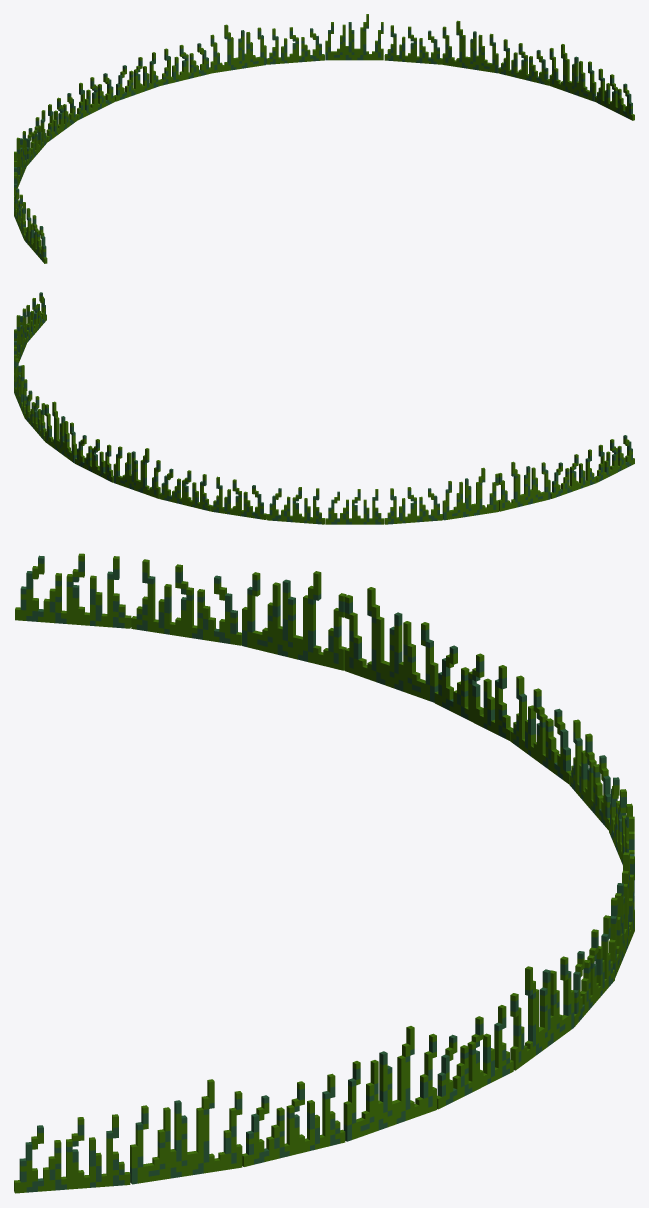
File: Grass_Layer1.fbx
The picture shows the model from 3 angles, top to bottom: view 1: azimuth 30°, elevation 25°; view 2: azimuth 150°, elevation 25°; view 3: azimuth 270°, elevation 25°; orthographic projection. The views are drawn at different scales.
Parts seen in each view (by area): view 1: Grass20, Grass1, Grass15, Grass26, Grass8, Grass16, Grass24, Grass3, Grass6, Grass28, Grass9, Grass14 (+4 smaller); view 2: Grass21, Grass25, Grass1, Grass6, Grass17, Grass9, Grass3, Grass14, Grass15, Grass27, Grass29, Grass8 (+4 smaller); view 3: Grass26, Grass25, Grass21, Grass20, Grass27, Grass28, Grass24, Grass29, Grass15, Grass16, Grass17, Grass14 (+4 smaller).
Boxes of the visible parts, left/top/right/bottom form: Grass20: left=442, top=20, right=498, bottom=73; Grass1: left=210, top=24, right=266, bottom=73; Grass15: left=325, top=14, right=383, bottom=60; Grass26: left=549, top=44, right=596, bottom=101; Grass8: left=266, top=27, right=324, bottom=64; Grass16: left=384, top=25, right=442, bottom=64; Grass24: left=498, top=39, right=549, bottom=85; Grass3: left=159, top=43, right=211, bottom=85; Grass6: left=114, top=52, right=160, bottom=101; Grass28: left=595, top=68, right=634, bottom=120; Grass9: left=75, top=73, right=114, bottom=120; Grass14: left=46, top=93, right=76, bottom=142; Grass21: left=442, top=467, right=498, bottom=520; Grass25: left=498, top=461, right=550, bottom=511; Grass1: left=113, top=446, right=160, bottom=498; Grass6: left=210, top=476, right=266, bottom=519; Grass17: left=384, top=487, right=442, bottom=524; Grass9: left=266, top=487, right=324, bottom=524; Grass3: left=159, top=468, right=211, bottom=511; Grass14: left=325, top=489, right=384, bottom=524; Grass15: left=45, top=401, right=76, bottom=463; Grass27: left=550, top=449, right=596, bottom=498; Grass29: left=595, top=435, right=634, bottom=482; Grass8: left=75, top=435, right=113, bottom=482; Grass26: left=130, top=1079, right=242, bottom=1184; Grass25: left=242, top=571, right=346, bottom=670; Grass21: left=344, top=587, right=438, bottom=702; Grass20: left=343, top=1026, right=436, bottom=1141; Grass27: left=131, top=559, right=241, bottom=645; Grass28: left=14, top=1114, right=130, bottom=1193; Grass24: left=242, top=1073, right=345, bottom=1166; Grass29: left=15, top=553, right=131, bottom=628; Grass15: left=510, top=956, right=574, bottom=1070; Grass16: left=437, top=1005, right=513, bottom=1109; Grass17: left=434, top=645, right=513, bottom=740; Grass14: left=510, top=675, right=571, bottom=783.
Size of the model in its own units: 12.6 by 0.9214 by 5.74.
